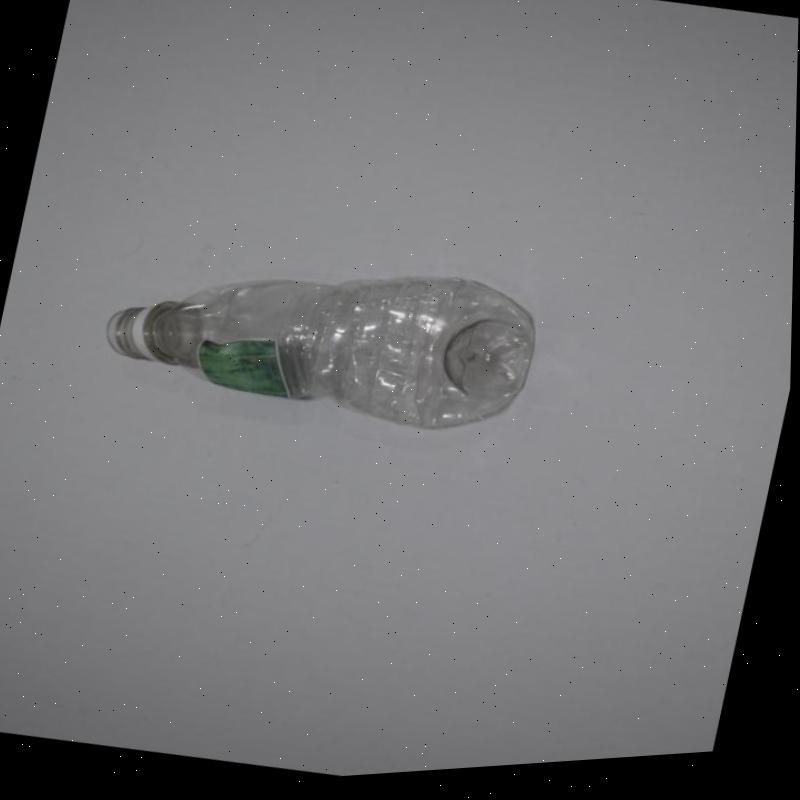botella: (91, 210, 558, 471)
